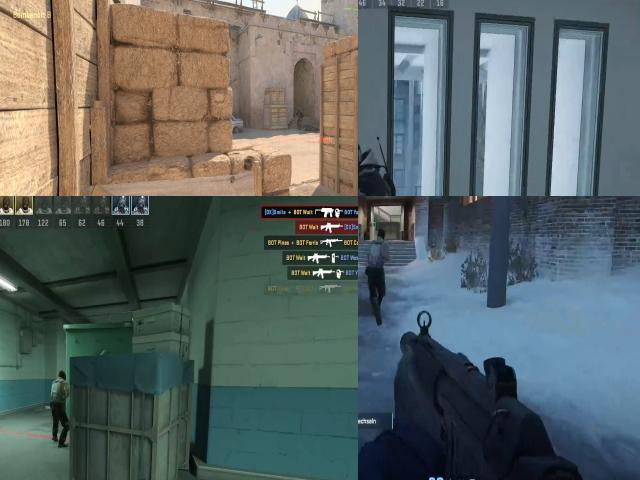CT: (358, 133, 402, 196), (297, 107, 302, 129)
CT-Head: (298, 107, 300, 111)
Dead: (303, 125, 318, 131)
T: (362, 228, 397, 271), (48, 370, 66, 415)
T-Head: (54, 363, 68, 387), (373, 226, 388, 246)
